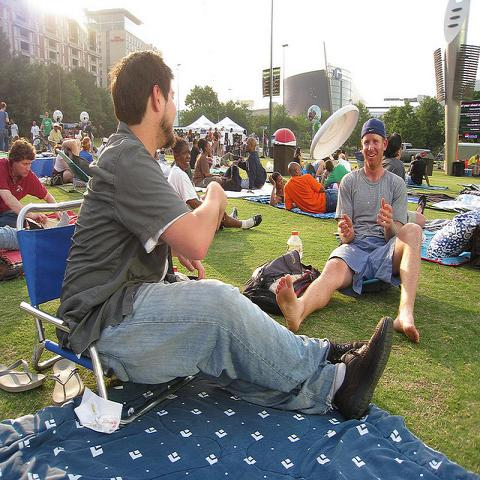truck: (400, 142, 434, 162)
